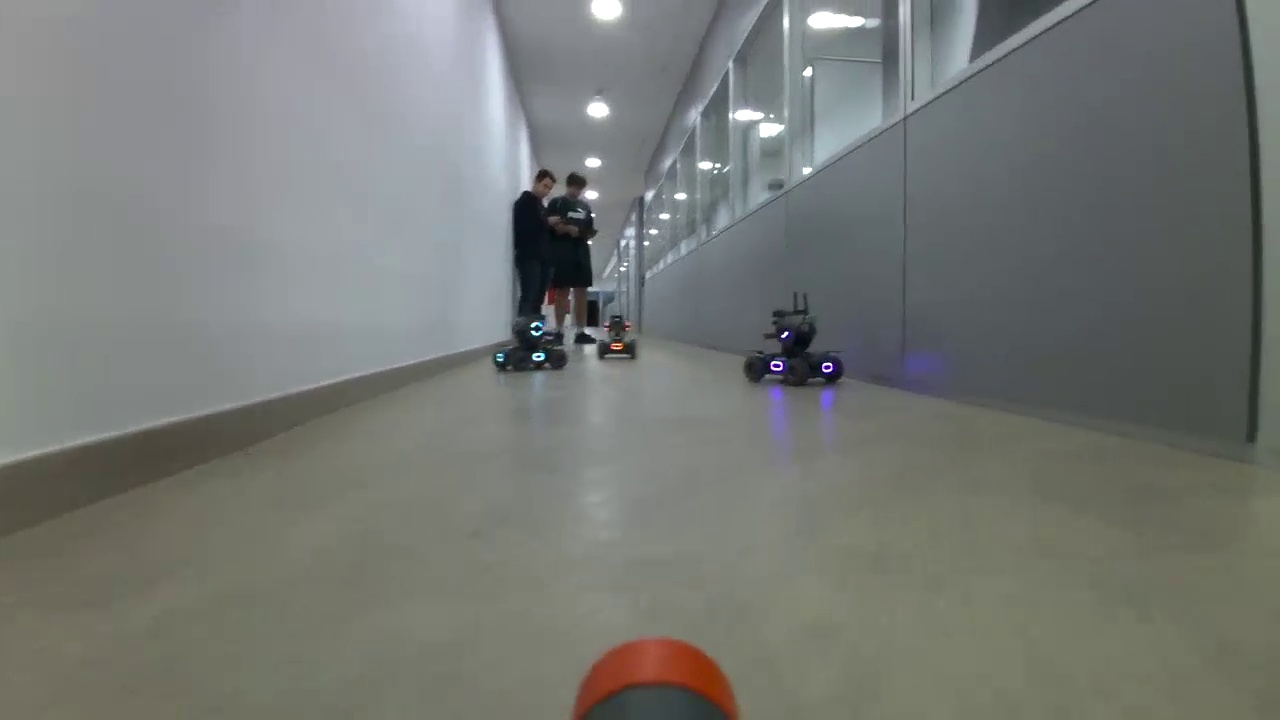robot: (744, 310, 846, 391), (494, 314, 569, 373), (597, 314, 638, 362)
